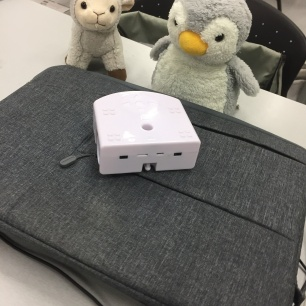thymio: (85, 89, 203, 181)
